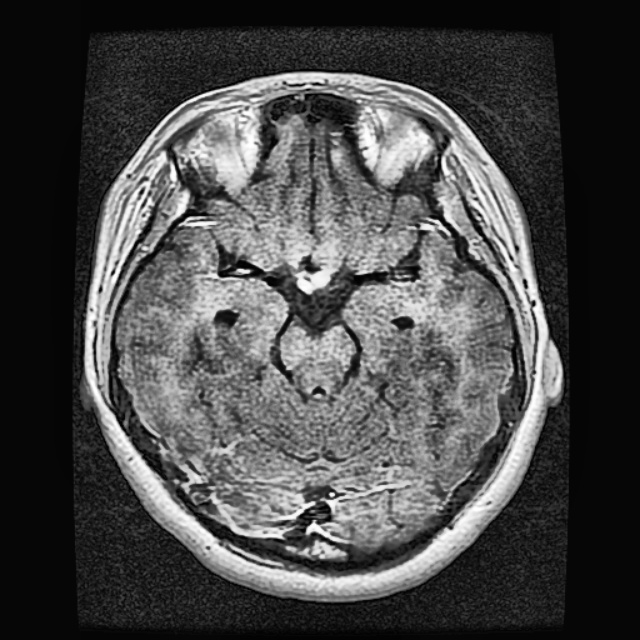Pituitary: (295, 270, 330, 294)
